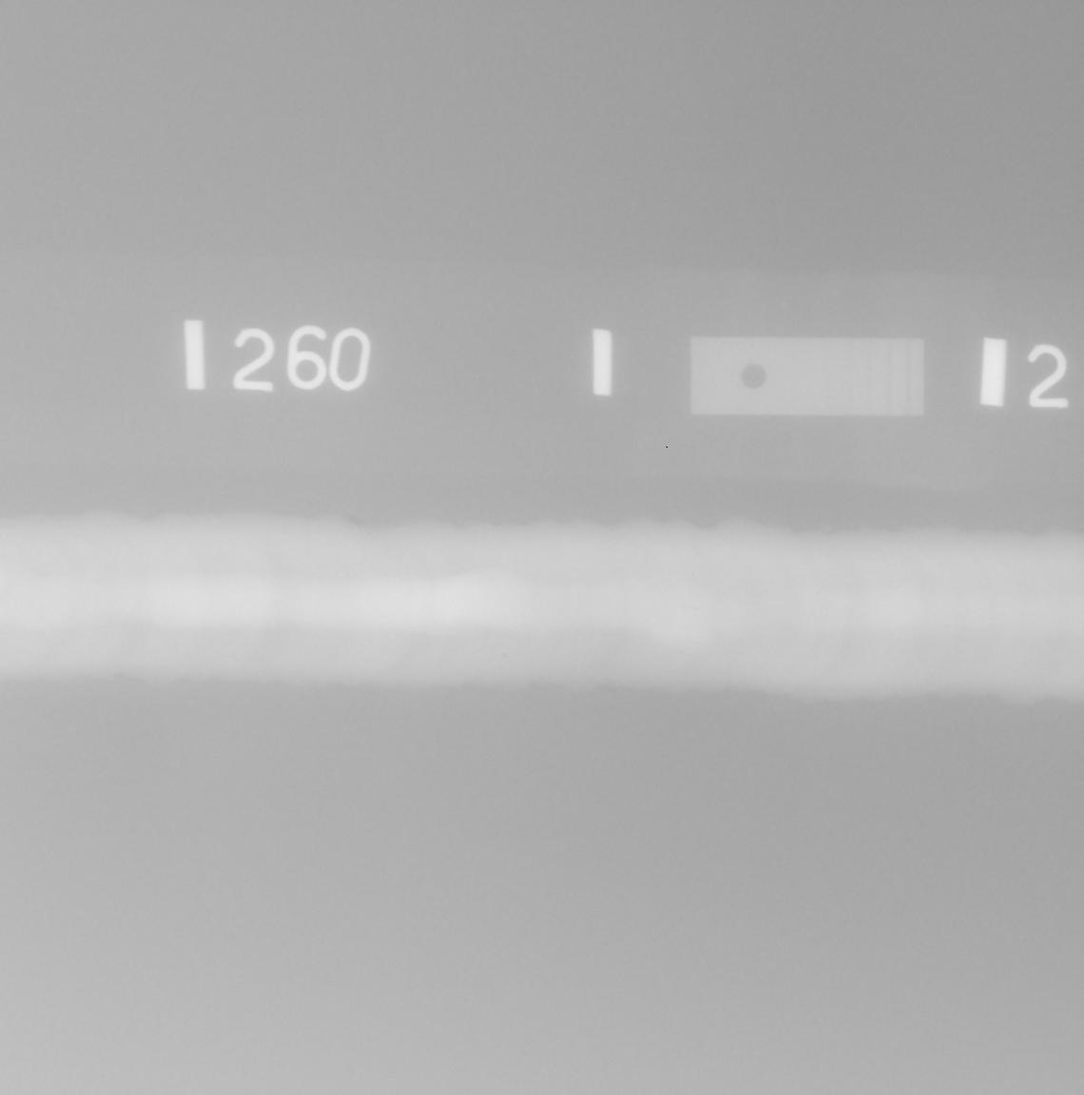Reference Standard 1: (691, 336, 924, 416)
Undercut: (345, 514, 365, 524)
